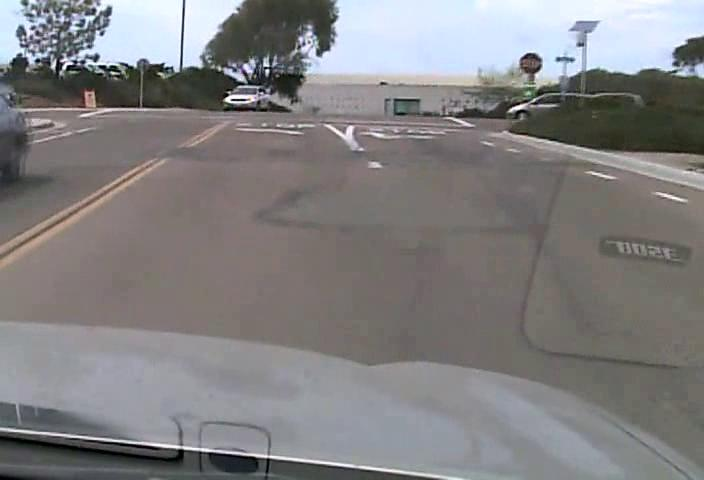stop: (519, 52, 543, 75)
